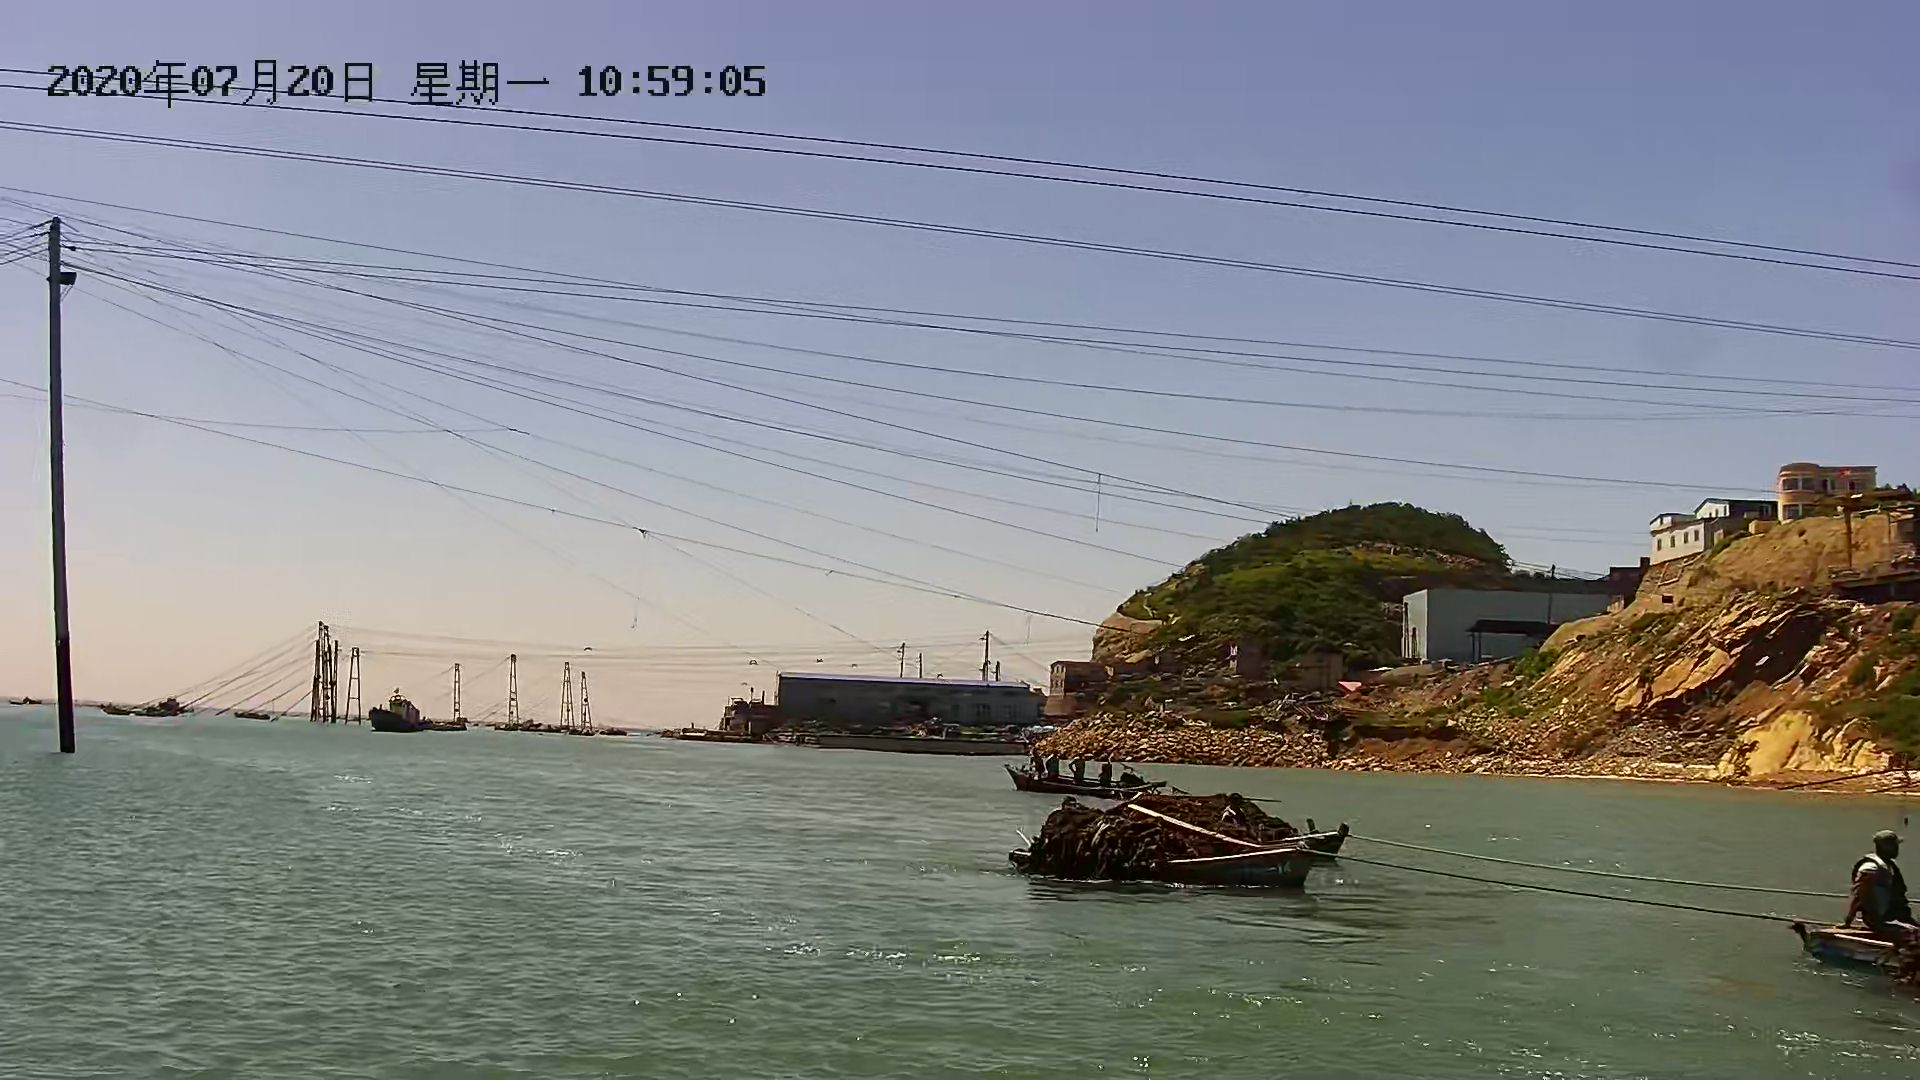boat: (1002, 759, 1163, 801)
mast: (37, 216, 86, 758)
person: (1849, 825, 1912, 949), (1069, 749, 1087, 788), (1044, 748, 1061, 783), (1097, 756, 1112, 794)
rubbish: (1035, 789, 1274, 901)
ship: (364, 683, 438, 740)
